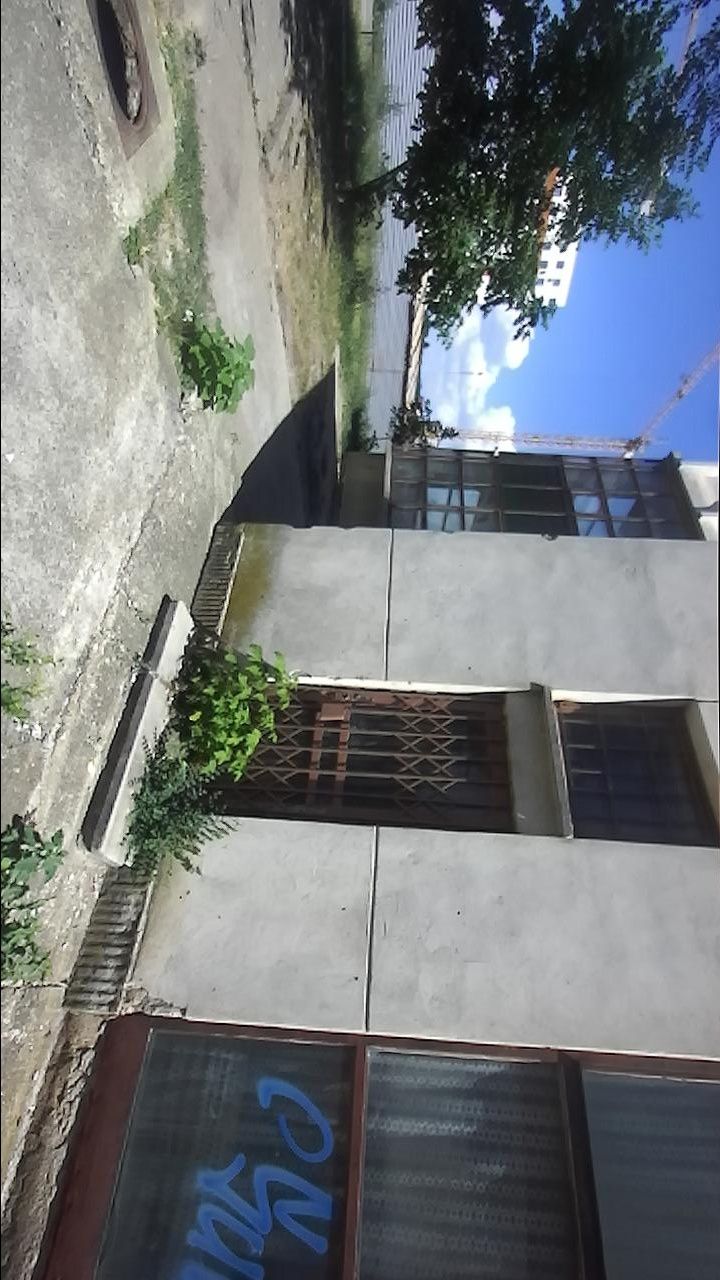drain: (88, 1, 151, 137)
